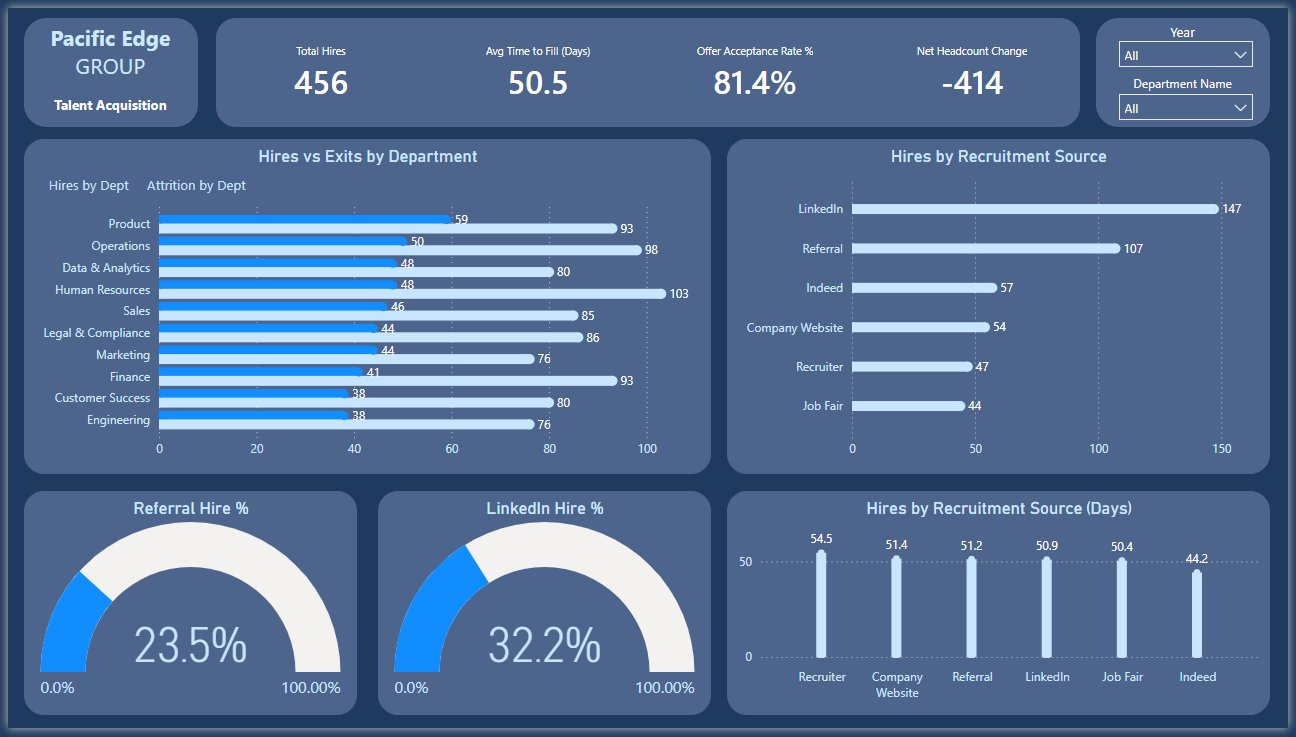

What the dashboard file says about the page in this screenshot:
{"tool":"powerbi","page":{"name":"Talent Acquisition","canvas":[1280,720],"ordinal":2},"visuals":[{"type":"cardVisual","fields":{"Data":["_Measures.Total Hires","_Measures.Avg Time to Fill (Days)","_Measures.Offer Acceptance Rate %","_Measures.Net Headcount Change"]},"box":[207.8,10,864.4,108.9],"z":0},{"type":"shape","box":[15.6,10,174.4,108.9],"z":1000},{"type":"shape","box":[1087.8,10,174.4,108.9],"z":2000,"group":"g1"},{"type":"clusteredColumnChart","title":"Hires by Recruitment Source (Days)","fields":{"Category":["fact_hiring.recruitment_source"],"Y":["_Measures.Avg Time to Fill (Days)"]},"box":[719,483,543,224],"z":2000},{"type":"clusteredBarChart","title":"Hires by Recruitment Source","fields":{"Category":["fact_hiring.recruitment_source"],"Y":["_Measures.Total Hires"]},"box":[719,131,543,335],"z":3000},{"type":"textbox","box":[15.6,10,174.4,108.9],"z":4000},{"type":"group","id":"g1","title":"Group 1","box":[1087.8,10,174.4,121.1],"z":5000},{"type":"clusteredBarChart","title":"Hires vs Exits by Department","fields":{"Category":["dim_department.dept_name"],"Y":["_Measures.Hires by Dept","_Measures.Attrition by Dept"]},"box":[16,131,687,335],"z":6000},{"type":"gauge","title":"Referral Hire %","fields":{"MaxValue":["_Measures.Total Hires"],"Y":["_Measures.Referral Hire %"]},"box":[16,483,333,224],"z":7000},{"type":"slicer","fields":{"Values":["dim_date.year"]},"box":[1101.1,22.6,153.7,54.2],"z":8000,"group":"g1"},{"type":"gauge","title":"LinkedIn Hire %","fields":{"MaxValue":["_Measures.Total Hires"],"Y":["_Measures.LinkedIn Hire %"]},"box":[370,483,333,224],"z":8000},{"type":"slicer","fields":{"Values":["dim_department.dept_name"]},"box":[1101.1,75.8,153.7,55.3],"z":9000,"group":"g1"},{"type":"textbox","box":[1087.9,10,174.2,47.4],"z":10000,"group":"g1"},{"type":"textbox","box":[1087.9,60.5,174.2,47.9],"z":11000,"group":"g1"}]}

Visuals, with their boxes in screenshot pixels (x1, y1, x2, y2), scaled from the page's 1280x720 canvas onto the 1296x737 screenshot:
cardVisual - _Measures.Total Hires x _Measures.Avg Time to Fill (Days): {"x1": 210, "y1": 10, "x2": 1086, "y2": 122}
shape: {"x1": 16, "y1": 10, "x2": 192, "y2": 122}
shape: {"x1": 1101, "y1": 10, "x2": 1278, "y2": 122}
"Hires by Recruitment Source (Days)" clusteredColumnChart: {"x1": 728, "y1": 494, "x2": 1278, "y2": 724}
"Hires by Recruitment Source" clusteredBarChart: {"x1": 728, "y1": 134, "x2": 1278, "y2": 477}
textbox: {"x1": 16, "y1": 10, "x2": 192, "y2": 122}
"Group 1" group: {"x1": 1101, "y1": 10, "x2": 1278, "y2": 134}
"Hires vs Exits by Department" clusteredBarChart: {"x1": 16, "y1": 134, "x2": 712, "y2": 477}
"Referral Hire %" gauge: {"x1": 16, "y1": 494, "x2": 353, "y2": 724}
slicer - dim_date.year: {"x1": 1115, "y1": 23, "x2": 1270, "y2": 79}
"LinkedIn Hire %" gauge: {"x1": 375, "y1": 494, "x2": 712, "y2": 724}
slicer - dim_department.dept_name: {"x1": 1115, "y1": 78, "x2": 1270, "y2": 134}
textbox: {"x1": 1101, "y1": 10, "x2": 1278, "y2": 59}
textbox: {"x1": 1101, "y1": 62, "x2": 1278, "y2": 111}
